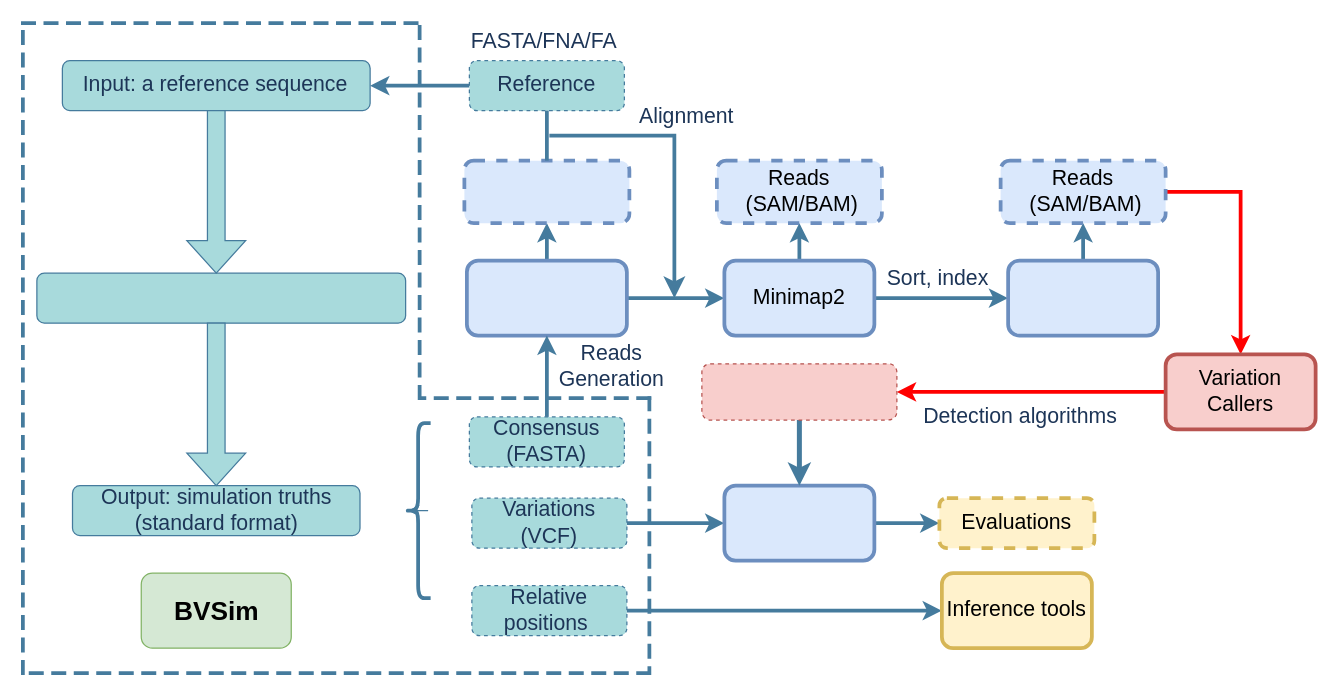
Some shapes in this 1340 by 696 pixel diagram are drawn without their labels. Each missing label, with the centre of its shape:
"Detected variations (VCF)" goes at point (799, 391).
"Pbsim2/other reads simulators" goes at point (546, 297).
"Reads (FASTQ,)" goes at point (546, 191).
"Samtools" goes at point (1082, 297).
"Simulation: introduction of variations" goes at point (221, 297).
"Turvari" goes at point (799, 522).
